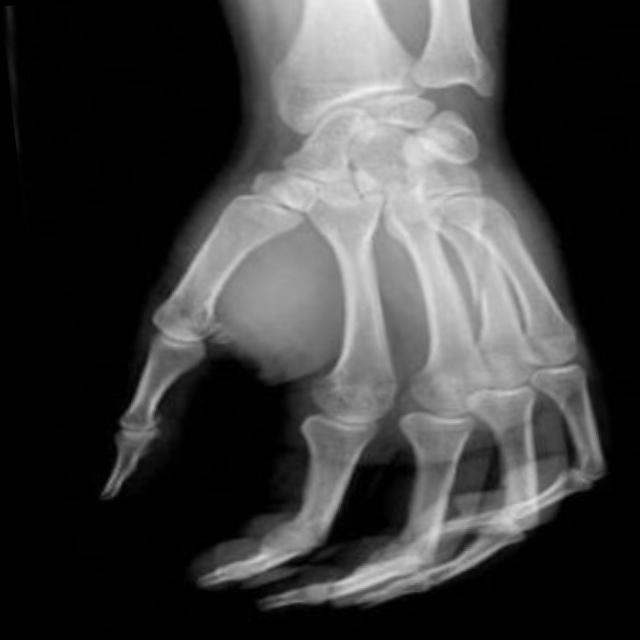fracture: (451, 284, 491, 317)
